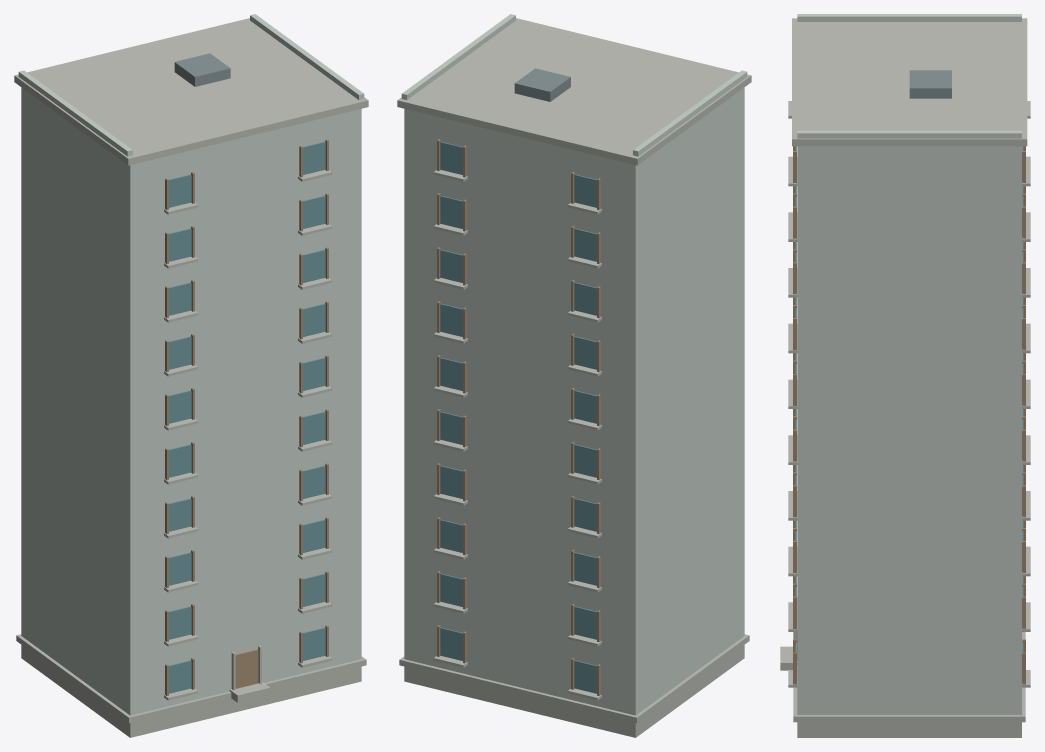
File: tower-1.glb
3 views of the same model, side by side, from view 1: azimuth 30°, elevation 25°; view 2: azimuth 150°, elevation 25°; view 3: azimuth 270°, elevation 25° (orthographic). The views are drawn at different scales.
Size of the model in its own units: 6.75 by 15.9 by 5.91.
